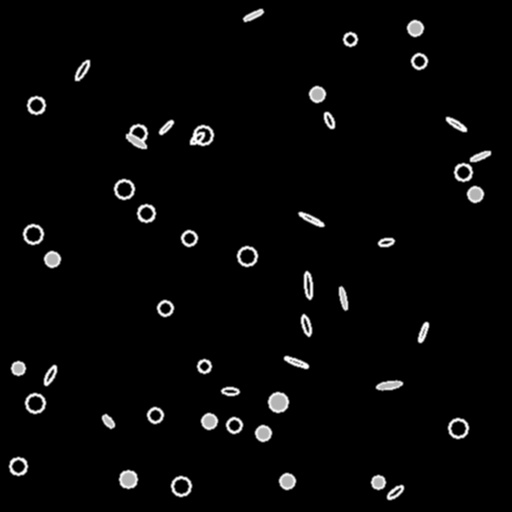pseudomonas: (298, 211, 324, 227), (73, 59, 91, 81), (283, 355, 309, 369), (385, 483, 405, 501), (445, 116, 467, 132), (42, 364, 58, 386), (125, 133, 147, 149), (242, 8, 264, 22), (303, 271, 313, 299), (417, 321, 429, 343), (300, 314, 312, 336), (469, 150, 491, 162), (189, 130, 205, 146), (158, 119, 174, 135), (338, 286, 348, 310), (377, 380, 401, 390), (101, 413, 115, 429), (323, 111, 335, 129), (378, 237, 394, 247), (221, 388, 239, 394)
synechocystis: (449, 419, 467, 437), (238, 247, 256, 265), (194, 126, 212, 144), (172, 477, 190, 495), (269, 393, 287, 411), (24, 225, 42, 243), (26, 394, 44, 412), (115, 180, 133, 198), (130, 125, 146, 141), (138, 205, 154, 221), (455, 164, 471, 180), (10, 458, 26, 474), (120, 471, 136, 487), (28, 97, 44, 113), (256, 426, 270, 440), (310, 87, 324, 101), (468, 187, 482, 201), (412, 54, 426, 68), (158, 301, 172, 315), (280, 474, 294, 488), (45, 252, 59, 266), (227, 418, 241, 432), (148, 408, 162, 422), (408, 21, 422, 35), (202, 414, 216, 428), (182, 231, 196, 245), (198, 360, 210, 372), (12, 362, 24, 374), (372, 476, 384, 488), (344, 33, 356, 45)
